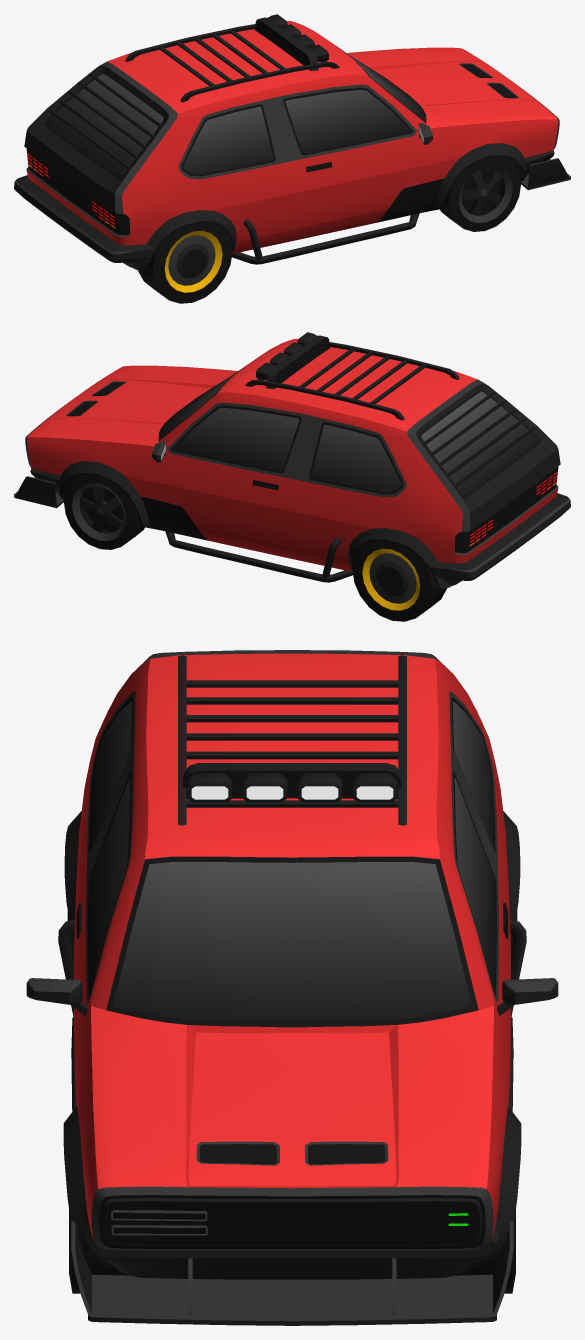
Rendered from Car_239.glb.
3 views of the same model, one above another, from view 1: azimuth 30°, elevation 25°; view 2: azimuth 150°, elevation 25°; view 3: azimuth 270°, elevation 25° (orthographic). The views are drawn at different scales.
Parts seen in each view (by area): view 1: Car_239, wheel_3_Car_239_Wheel_2R, wheel_1_Car_239_Wheel_1R; view 2: Car_239, wheel_2_Car_239_Wheel_2L, wheel_0_Car_239_Wheel_1L; view 3: Car_239, wheel_0_Car_239_Wheel_1L, wheel_1_Car_239_Wheel_1R.
Boxes of the visible parts, x1=… form: Car_239: x1=14, y1=14, x2=570, y2=270; wheel_3_Car_239_Wheel_2R: x1=138, y1=223, x2=232, y2=303; wheel_1_Car_239_Wheel_1R: x1=440, y1=157, x2=520, y2=231; Car_239: x1=14, y1=332, x2=570, y2=588; wheel_2_Car_239_Wheel_2L: x1=352, y1=541, x2=446, y2=621; wheel_0_Car_239_Wheel_1L: x1=64, y1=475, x2=144, y2=549; Car_239: x1=26, y1=650, x2=558, y2=1325; wheel_0_Car_239_Wheel_1L: x1=455, y1=1209, x2=515, y2=1293; wheel_1_Car_239_Wheel_1R: x1=69, y1=1209, x2=129, y2=1293.
Size of the model in its own units: 3.98 by 1.56 by 1.97.
Materials: 2 (2 with a texture image).
